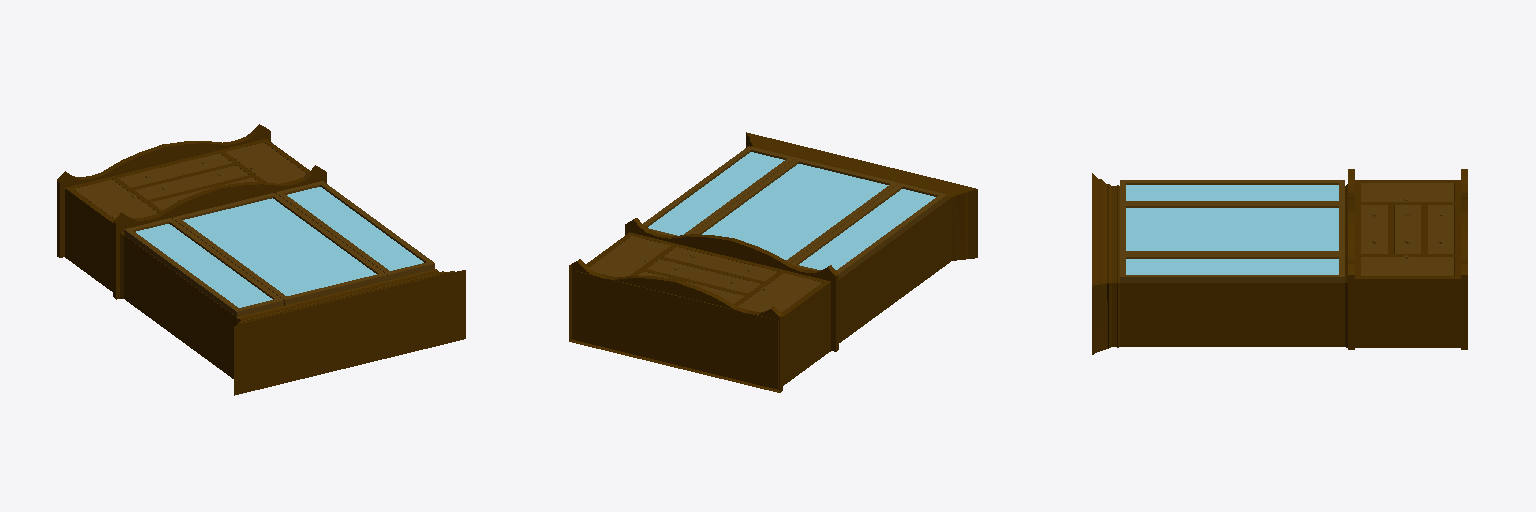
3 views of the same model, side by side, from view 1: azimuth 30°, elevation 25°; view 2: azimuth 150°, elevation 25°; view 3: azimuth 270°, elevation 25° (orthographic).
Parts seen in each view (by area): view 1: Glass_Front_-_Low_Poly_Material.001, Glass_Front_-_Low_Poly_Material.003, Glass_Front_-_Low_Poly_Material.002; view 2: Glass_Front_-_Low_Poly_Material.001, Glass_Front_-_Low_Poly_Material.003, Glass_Front_-_Low_Poly_Material.002; view 3: Glass_Front_-_Low_Poly_Material.001, Glass_Front_-_Low_Poly_Material.003, Glass_Front_-_Low_Poly_Material.002.
Boxes of the visible parts, x1,y1,x2,y2 form: Glass_Front_-_Low_Poly_Material.001: [57, 124, 465, 395]; Glass_Front_-_Low_Poly_Material.003: [136, 187, 423, 307]; Glass_Front_-_Low_Poly_Material.002: [74, 143, 434, 316]; Glass_Front_-_Low_Poly_Material.001: [569, 132, 977, 392]; Glass_Front_-_Low_Poly_Material.003: [648, 152, 935, 269]; Glass_Front_-_Low_Poly_Material.002: [589, 146, 946, 312]; Glass_Front_-_Low_Poly_Material.001: [1092, 169, 1467, 354]; Glass_Front_-_Low_Poly_Material.003: [1126, 185, 1338, 274]; Glass_Front_-_Low_Poly_Material.002: [1120, 180, 1453, 282].
Size of the model in its own units: 1.3 by 0.4564 by 1.82.
3 materials, 3 textured.